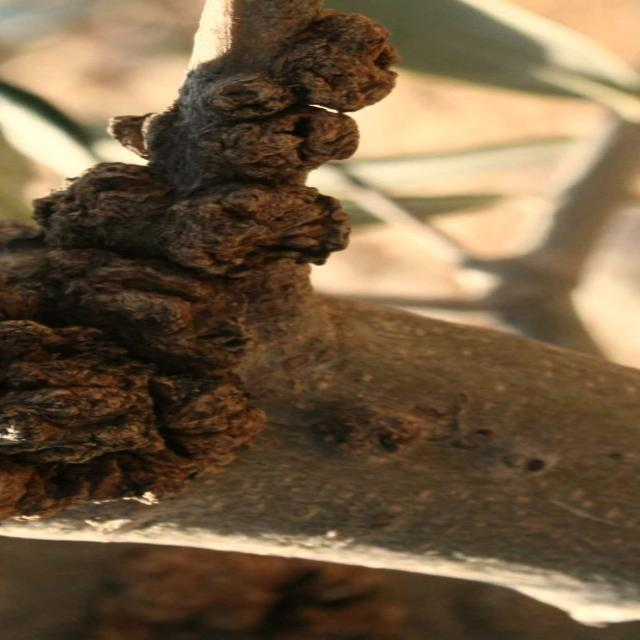Tuberculosis: (0, 0, 397, 520)
